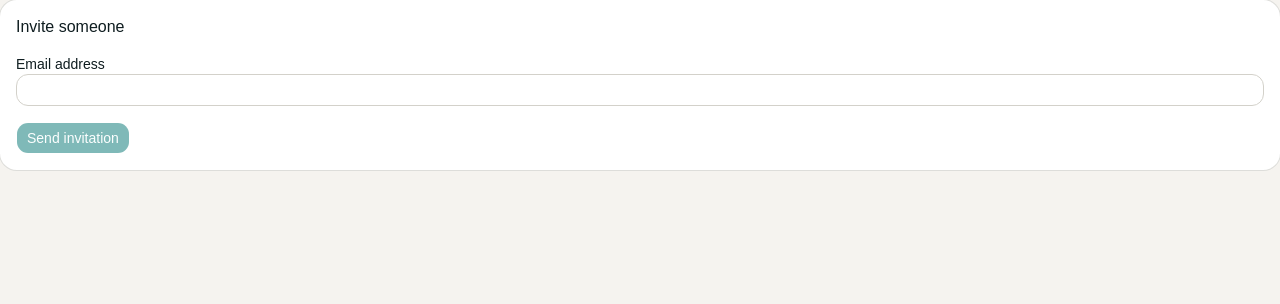
InvitationsAdminPage › shows an invitation sent while the first list is still loading
The image size is (1280, 304).
Type "new@example.com" into the field labelled "Email address". click: (640, 90)
box: [16,74,1264,106]
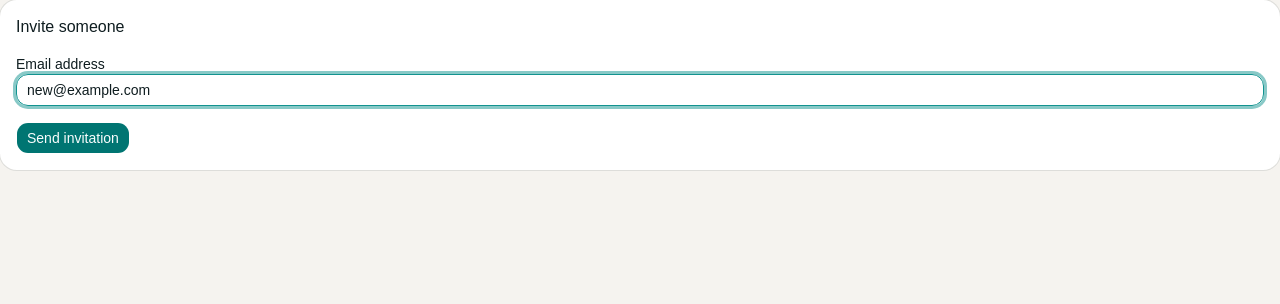
Click the button "Send invitation". click: (73, 138)
box: [16,122,130,154]
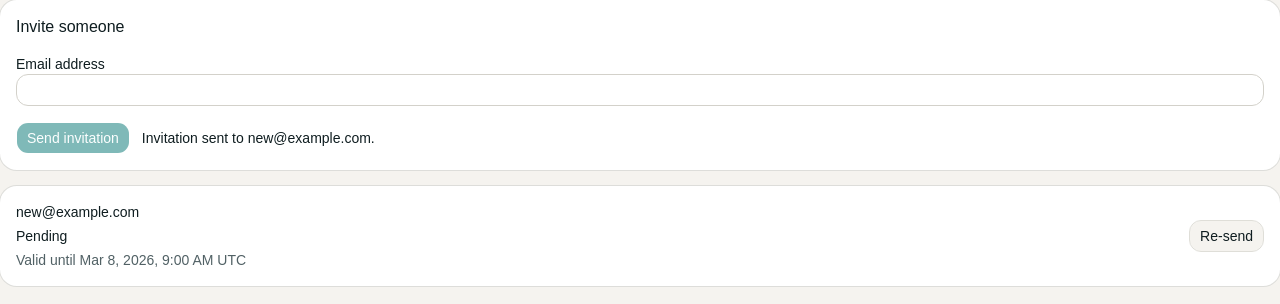
Check: the element "new@example.com" is shown, box [0,186,1279,286]
